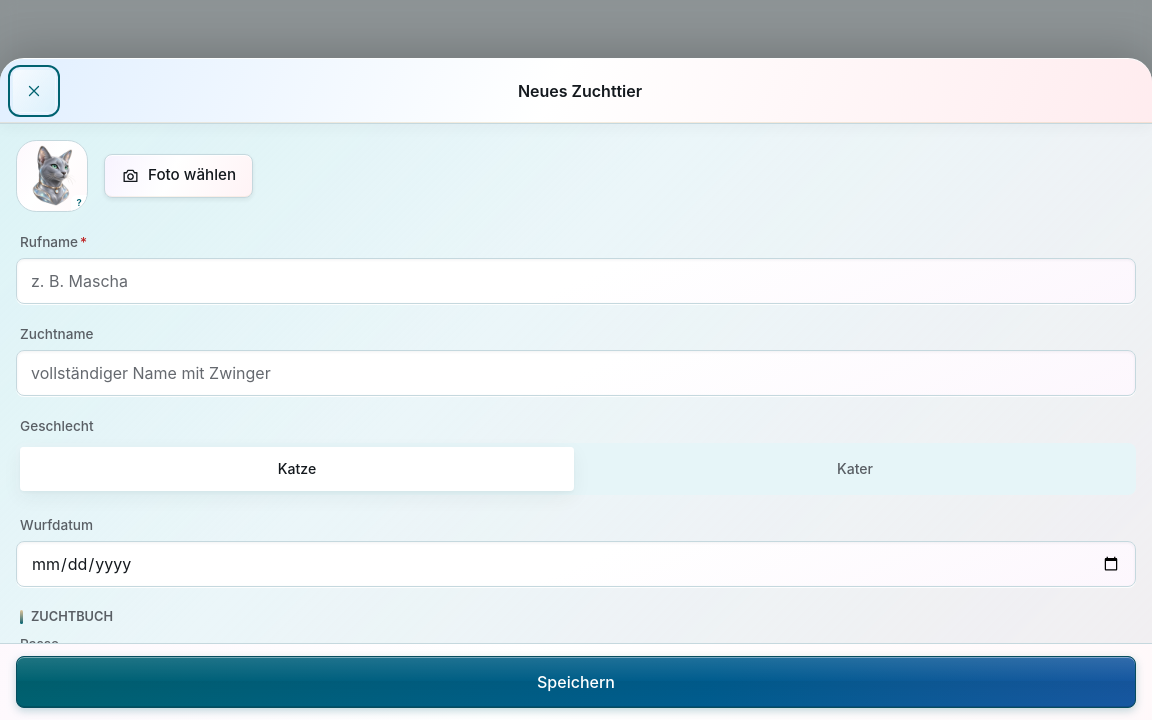
Test: CatEditorSheet › verlangt einen Rufnamen und legt sonst nichts an
Expected: the field labelled "Rufname*" is shown, [16,258,1136,304]
Step 1. Click the button "Speichern" → {"x": 576, "y": 682}, box [16,656,1136,708]
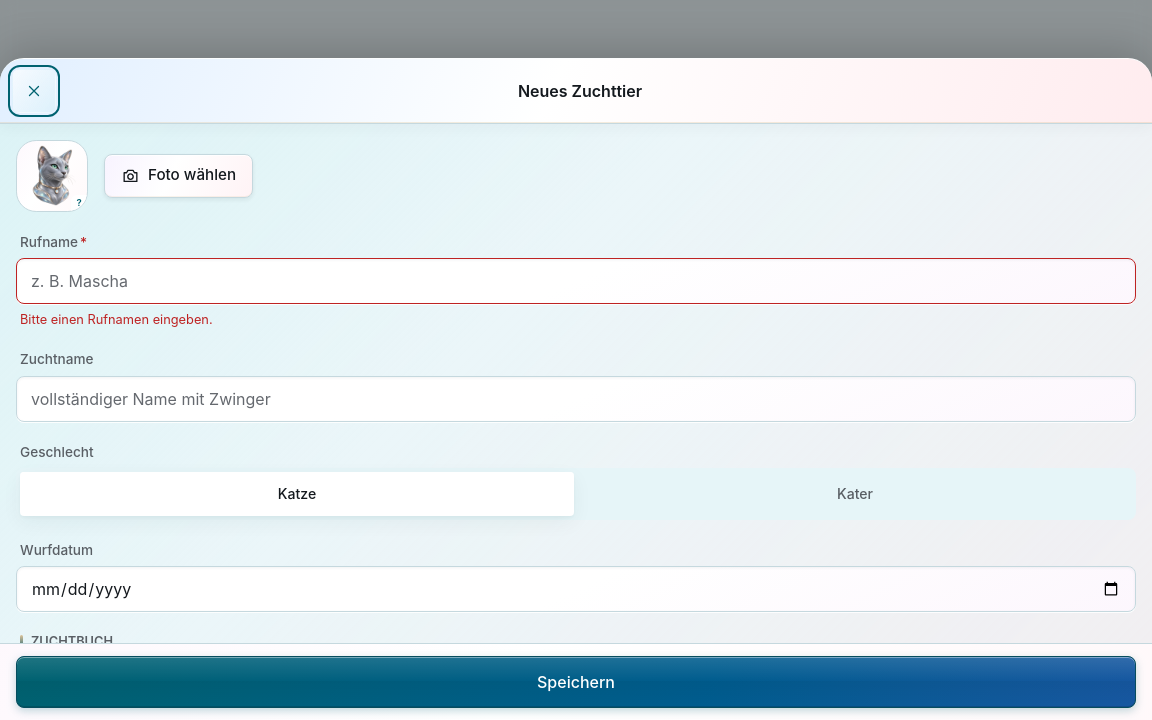
Expected: the text "Bitte einen Rufnamen eingeben." is shown, [20,312,213,327]
